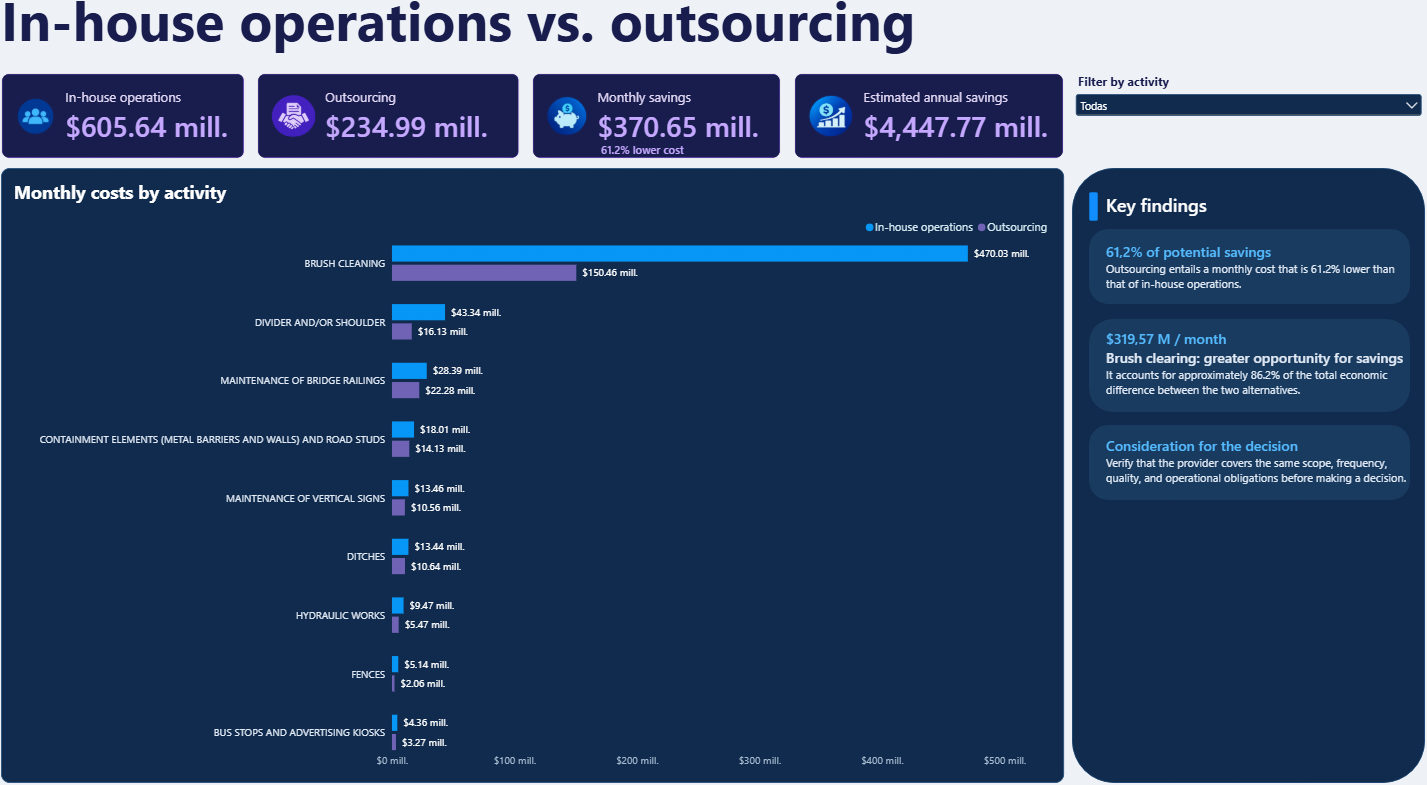

The dashboard page shown, as its layout file describes it:
{"tool":"powerbi","page":{"name":"Página 1","canvas":[1920,1080],"ordinal":0},"visuals":[{"type":"cardVisual","fields":{"Data":["Contratista.Total Propio"]},"box":[12,121,324.5,114.4],"z":0},{"type":"cardVisual","fields":{"Data":["Contratista.Total Subcontratación"]},"box":[352.5,121,349.8,114.4],"z":1000},{"type":"cardVisual","fields":{"Data":["Contratista.Ahorro potencial mensual"]},"box":[718.2,121,331.2,114.4],"z":2000},{"type":"cardVisual","fields":{"Data":["Contratista.Ahorro potencial anual"]},"box":[1066.7,121,359.1,114.4],"z":3000},{"type":"clusteredBarChart","title":"Monthly costs by activity","fields":{"Category":["Actividades.Actividad"],"Y":["Actividades.Costo Propio por Actividad","Actividades.Costo Subcontratado por Actividad"]},"box":[12,247.4,1413.8,818],"z":4000},{"type":"slicer","fields":{"Values":["Actividades.Actividad"]},"box":[1436.5,121,469.5,66.5],"z":5000},{"type":"textbox","title":"wfdasff","box":[12,0,1307.4,121],"z":6000},{"type":"cardVisual","fields":{"Data":["Actividades.Porcentaje Ahorro"]},"box":[794,187.5,331.2,70.5],"z":7000},{"type":"shape","box":[1436.5,247.4,469.5,818],"z":8000},{"type":"textbox","box":[1482.3,278.7,189.7,39.4],"z":9000},{"type":"shape","box":[1459.1,279.3,12,38.6],"z":10000},{"type":"shape","box":[1459.1,328.5,426.9,99.8],"z":11000},{"type":"textbox","box":[1481.7,345.8,404.3,71.8],"z":12000},{"type":"shape","box":[1459.1,448.2,426.9,123.7],"z":13000},{"type":"textbox","box":[1481.7,461.5,404.3,97.1],"z":14000},{"type":"shape","box":[1459.1,589.2,426.9,99.8],"z":15000},{"type":"textbox","box":[1481.7,603.8,404.3,71.8],"z":16000}]}

Visuals, with their boxes in screenshot pixels (x1, y1, x2, y2), scaled from the page's 1920x1080 canvas onto the 1427x785 screenshot:
cardVisual - Contratista.Total Propio: box=[9, 88, 250, 171]
cardVisual - Contratista.Total Subcontratación: box=[262, 88, 522, 171]
cardVisual - Contratista.Ahorro potencial mensual: box=[534, 88, 780, 171]
cardVisual - Contratista.Ahorro potencial anual: box=[793, 88, 1060, 171]
"Monthly costs by activity" clusteredBarChart: box=[9, 180, 1060, 774]
slicer - Actividades.Actividad: box=[1068, 88, 1417, 136]
"wfdasff" textbox: box=[9, 0, 981, 88]
cardVisual - Actividades.Porcentaje Ahorro: box=[590, 136, 836, 188]
shape: box=[1068, 180, 1417, 774]
textbox: box=[1102, 203, 1243, 231]
shape: box=[1084, 203, 1093, 231]
shape: box=[1084, 239, 1402, 311]
textbox: box=[1101, 251, 1402, 304]
shape: box=[1084, 326, 1402, 416]
textbox: box=[1101, 335, 1402, 406]
shape: box=[1084, 428, 1402, 501]
textbox: box=[1101, 439, 1402, 491]
